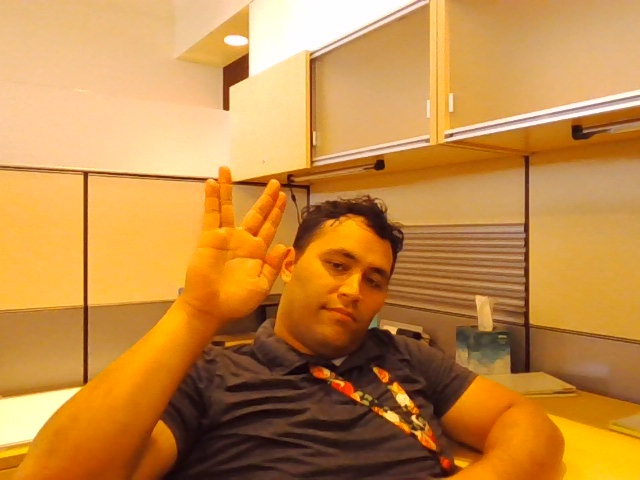LiveLong: (186, 164, 288, 325)
